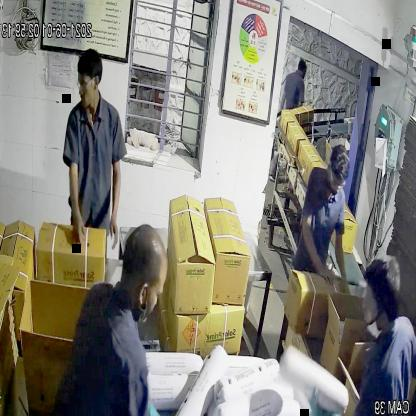goggles: (324, 167, 352, 195), (73, 73, 100, 96)
